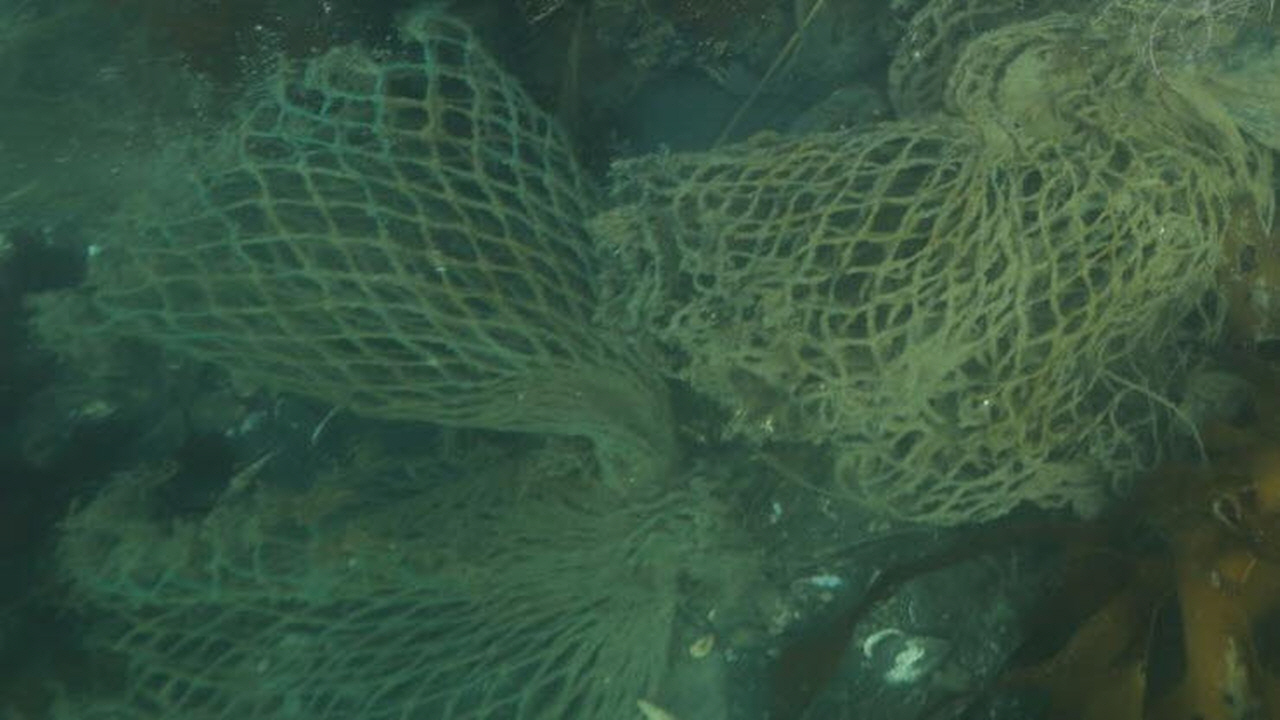fish net: (94, 0, 1280, 720)
